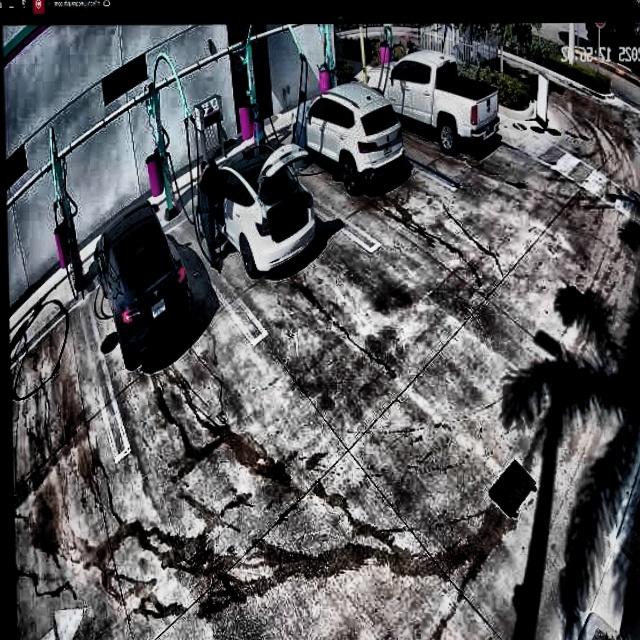Car: (92, 194, 196, 371), (200, 143, 308, 285), (363, 59, 504, 151), (293, 86, 406, 189)
